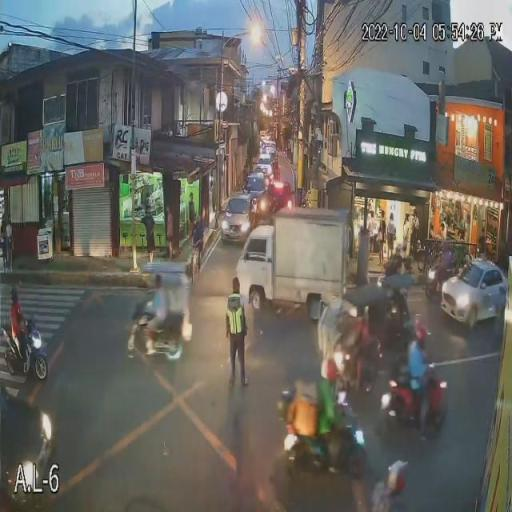helmet: (312, 352, 353, 379), (405, 314, 434, 346), (4, 276, 29, 306)
motorcycle: (275, 379, 376, 486), (380, 376, 454, 437), (1, 313, 50, 382)
rider: (311, 379, 355, 477), (406, 340, 442, 439), (2, 300, 40, 376)
